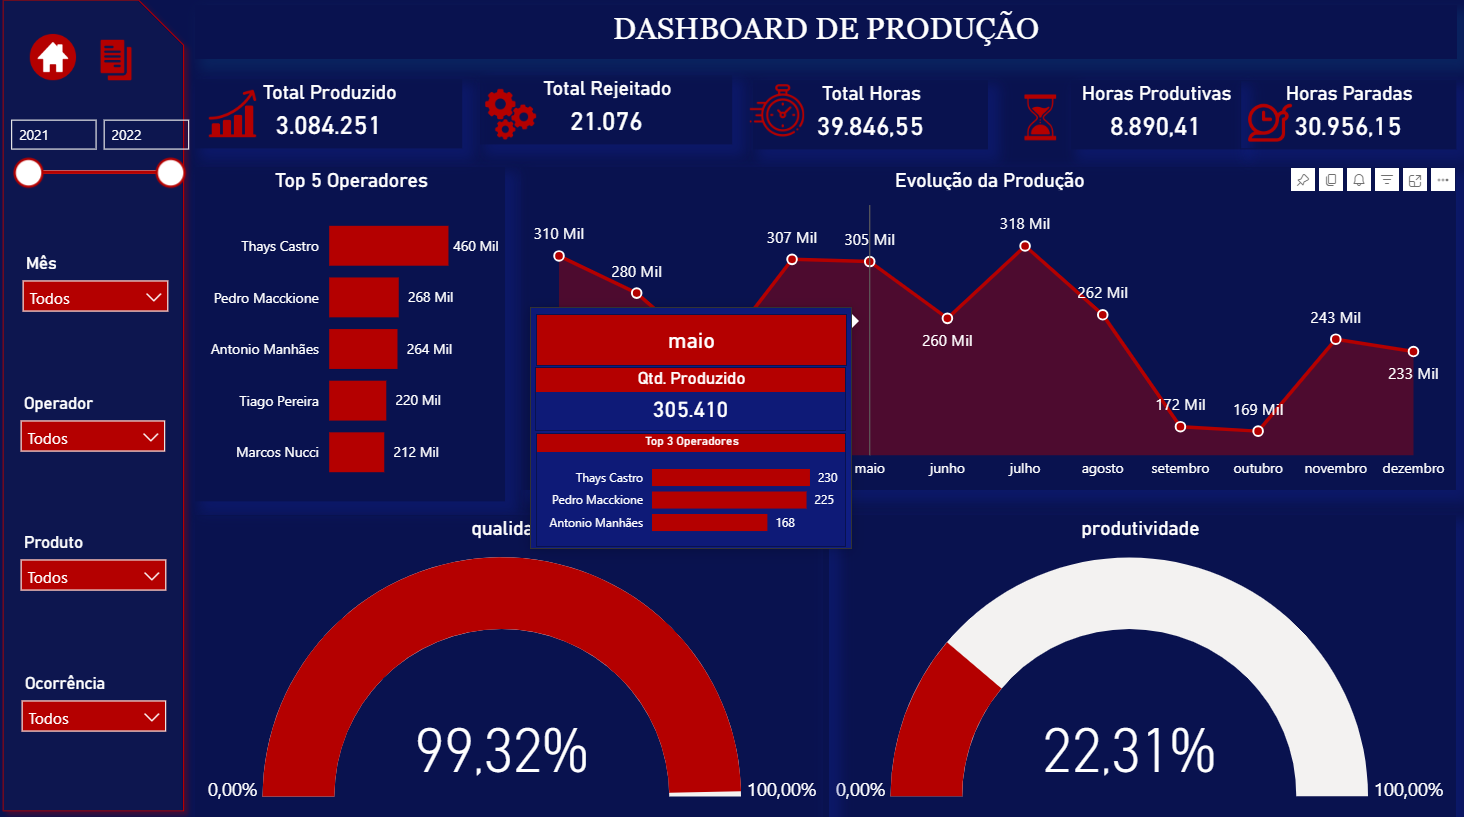

Layout of this report page (visuals, bound fields, positions):
{"tool":"powerbi","page":{"name":"Dasboard","canvas":[1280,720],"ordinal":1},"visuals":[{"type":"shape","box":[0,0,175.1,720],"z":0},{"type":"card","title":"Total Produzido ","fields":{"Values":["medidas.total produzido"]},"box":[175.1,78.1,230.7,60.1],"z":1000},{"type":"card","title":"Total Rejeitado","fields":{"Values":["medidas.total rejeitado"]},"box":[421.9,74.5,218.2,60.1],"z":2000},{"type":"card","title":"Total Horas","fields":{"Values":["medidas.total de horas"]},"box":[658.1,79,202.9,60.1],"z":3000},{"type":"card","title":"Horas Produtivas","fields":{"Values":["medidas.horas produtivas"]},"box":[932.7,78.8,146,60],"z":4000},{"type":"card","title":"Horas Paradas","fields":{"Values":["medidas.horas paradas"]},"box":[1079.1,79,186.7,60.1],"z":5000},{"type":"slicer","fields":{"Values":["BaseProdução.Produto"]},"box":[14.4,465.4,146.3,75.4],"z":6000},{"type":"slicer","fields":{"Values":["BaseProdução.Data Inicio.Variation.Hierarquia de datas.Mês"]},"box":[16.2,223.8,146.3,74.5],"z":7000},{"type":"slicer","fields":{"Values":["BaseProdução.Operador"]},"box":[14.4,344.6,145.4,74.5],"z":8000},{"type":"slicer","fields":{"Values":["BaseProdução.Ocorrência"]},"box":[15.3,587.1,145.4,75.4],"z":9000},{"type":"slicer","fields":{"Values":["BaseProdução.Data Inicio.Variation.Hierarquia de datas.Ano"]},"box":[3.1,102.4,172.4,75],"z":10000},{"type":"areaChart","title":"Evolução da Produção","fields":{"Y":["medidas.total produzido"],"Category":["BaseProdução.Data Inicio.Variation.Hierarquia de datas.Mês"]},"box":[457.1,153.7,808.3,279.1],"z":11000},{"type":"barChart","title":"Top 5 Operadores ","fields":{"Category":["BaseProdução.Operador"],"Y":["medidas.qtd real"]},"box":[175.1,153.7,268.4,288.9],"z":12000},{"type":"gauge","fields":{"Y":["medidas.produtividade"]},"box":[718.2,454.3,546.7,265.7],"z":13000},{"type":"gauge","fields":{"Y":["medidas.qualidade"]},"box":[175.1,454.3,547.6,265.7],"z":14000},{"type":"textbox","box":[175.1,13.5,1090.8,46.7],"z":15000},{"type":"image","box":[27.8,33.2,50.3,52.1],"z":16000},{"type":"image","box":[84.4,38.6,44.9,45.8],"z":17000},{"type":"image","box":[182.2,82.3,51.2,51.2],"z":18000},{"type":"image","box":[418.4,81.1,60.1,53.9],"z":19000},{"type":"image","box":[878.9,82.6,53.9,56.6],"z":20000},{"type":"image","box":[650,74.5,56.6,60.1],"z":21000},{"type":"image","box":[1079.1,91.6,53,48.5],"z":22000}]}

Visuals, with their boxes in screenshot pixels (x1, y1, x2, y2), scaled from the page's 1280x720 canvas onto the 1464x817 screenshot:
shape: 0, 0, 200, 816
"Total Produzido " card: 200, 89, 464, 157
"Total Rejeitado" card: 483, 85, 732, 153
"Total Horas" card: 753, 90, 985, 158
"Horas Produtivas" card: 1067, 89, 1234, 157
"Horas Paradas" card: 1234, 90, 1448, 158
slicer - BaseProdução.Produto: 16, 528, 184, 614
slicer - BaseProdução.Data Inicio.Variation.Hierarquia de datas.Mês: 19, 254, 186, 338
slicer - BaseProdução.Operador: 16, 391, 183, 476
slicer - BaseProdução.Ocorrência: 17, 666, 184, 752
slicer - BaseProdução.Data Inicio.Variation.Hierarquia de datas.Ano: 4, 116, 201, 201
"Evolução da Produção" areaChart: 523, 174, 1447, 491
"Top 5 Operadores " barChart: 200, 174, 507, 502
gauge - medidas.produtividade: 821, 516, 1447, 816
gauge - medidas.qualidade: 200, 516, 827, 816
textbox: 200, 15, 1448, 68
image: 32, 38, 89, 97
image: 97, 44, 148, 96
image: 208, 93, 267, 151
image: 479, 92, 547, 153
image: 1005, 94, 1067, 158
image: 743, 85, 808, 153
image: 1234, 104, 1295, 159
